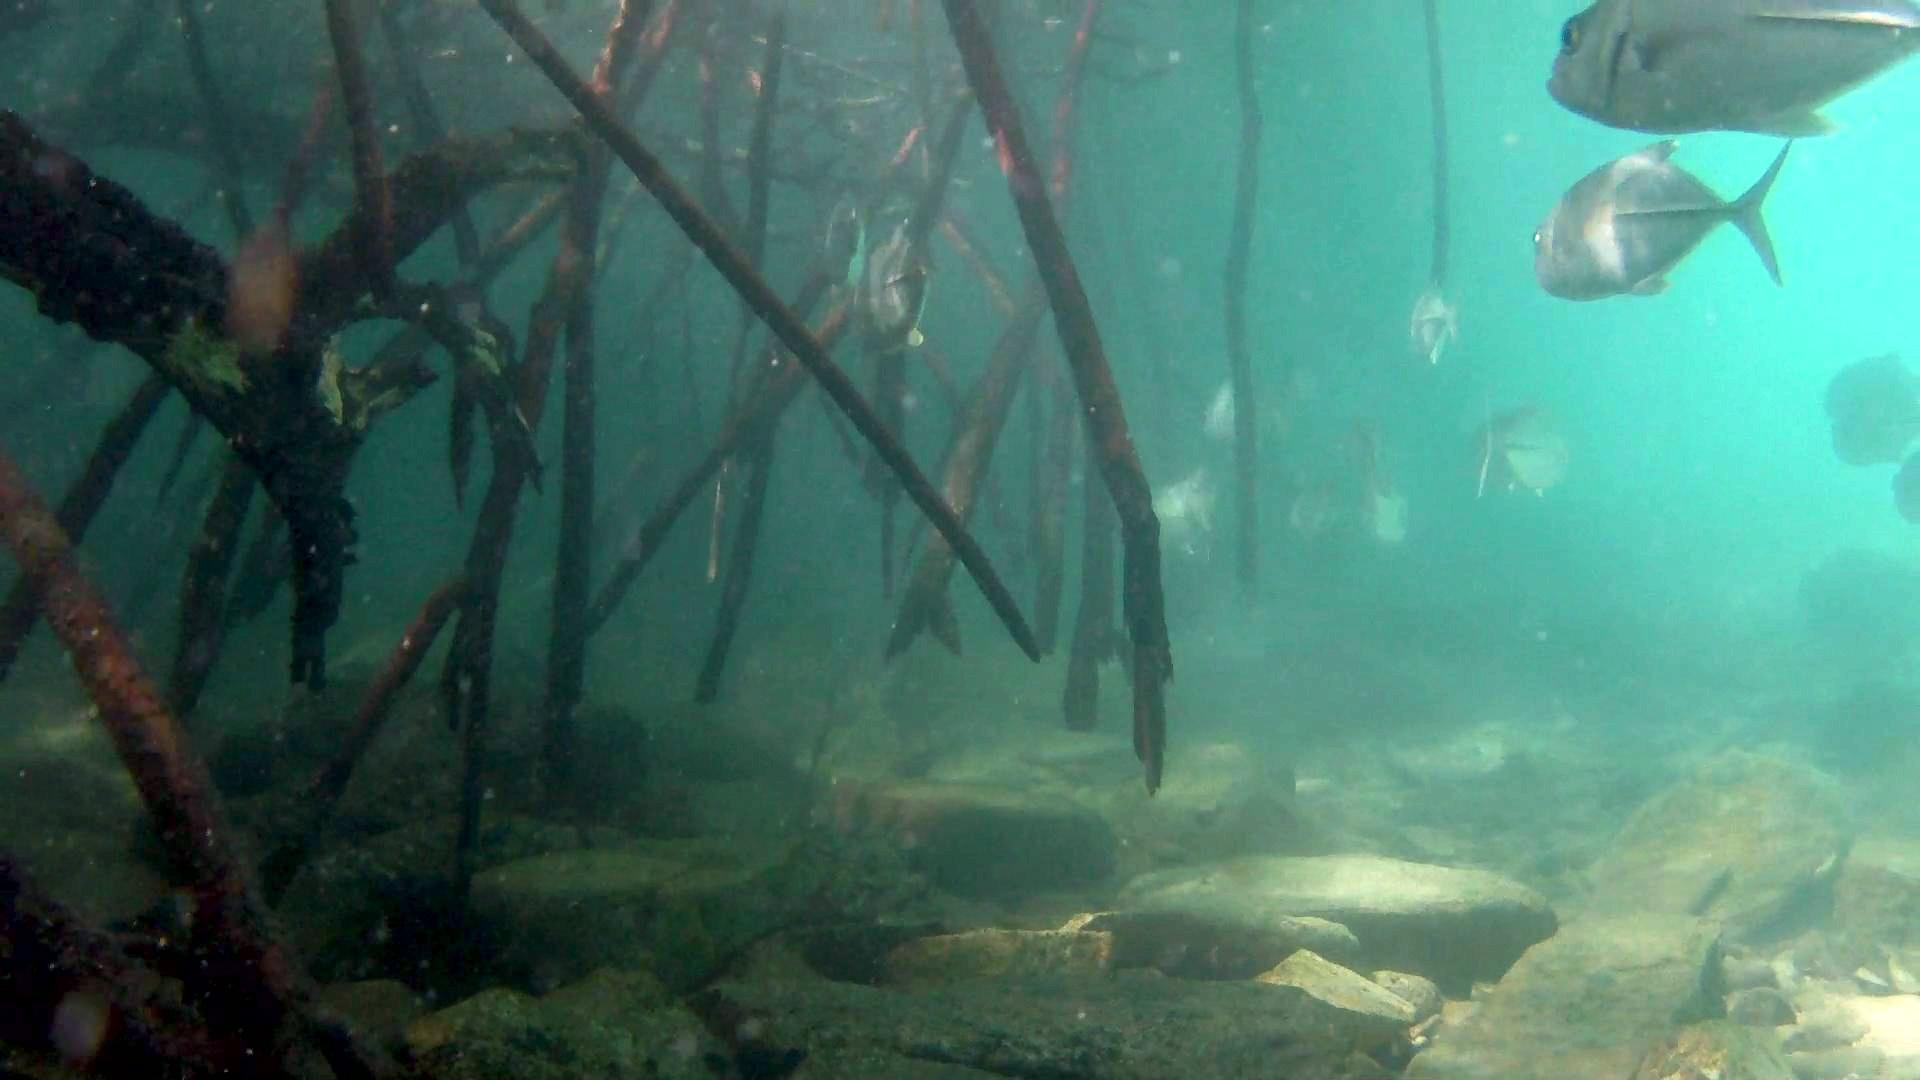caranx: (1537, 0, 1920, 143), (1526, 136, 1799, 308)
